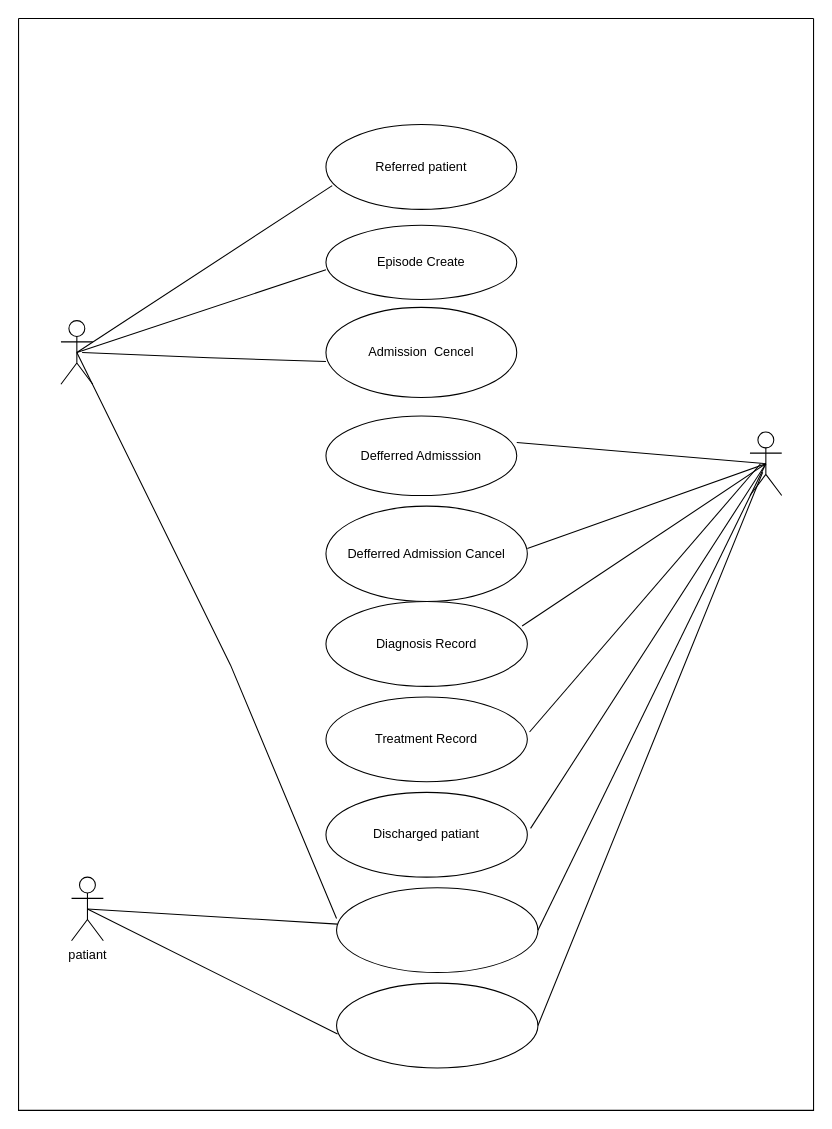
The diagram is 832 pixels wide and 1129 high, and some of its shapes have lost their labels. The shapes that lost their labels are listed below. From the top down, each one's centre as x and y in pixels, then its label:
At pixel 76 352: "community doctor".
At pixel 765 463: "hospital doctor".
At pixel 436 930: "DIscharged Note".
At pixel 436 1025: "DIscharged Advice".
